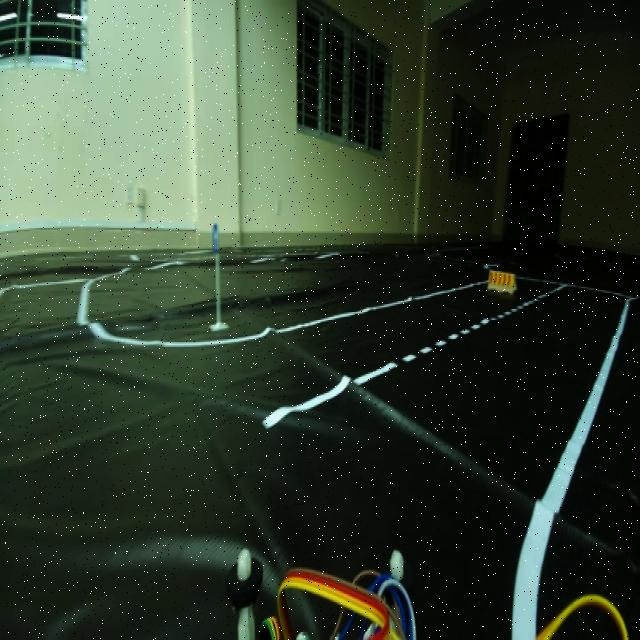onewayroad: (208, 222, 222, 256)
